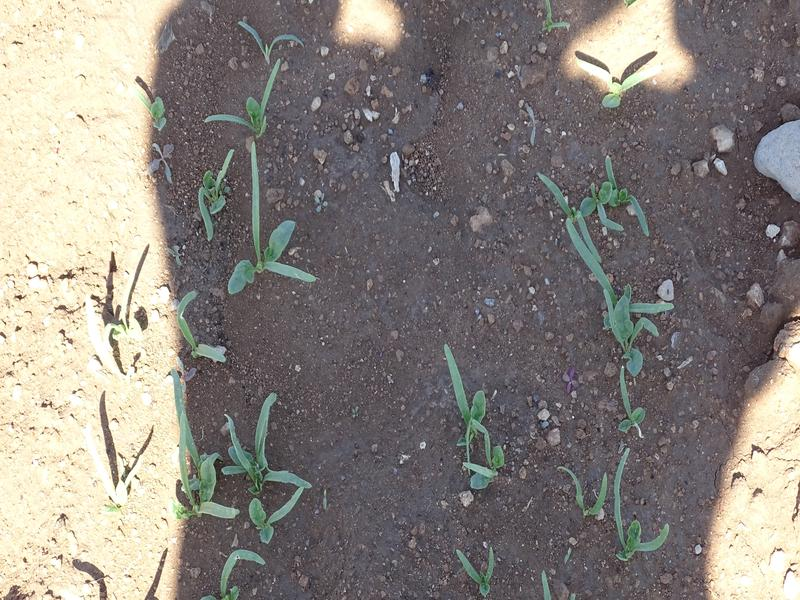Espinaca: (163, 299, 331, 551), (538, 167, 676, 439), (209, 87, 336, 291), (560, 445, 681, 558), (440, 342, 504, 485), (579, 47, 671, 118), (78, 415, 147, 500), (83, 310, 156, 382), (459, 543, 508, 597)
